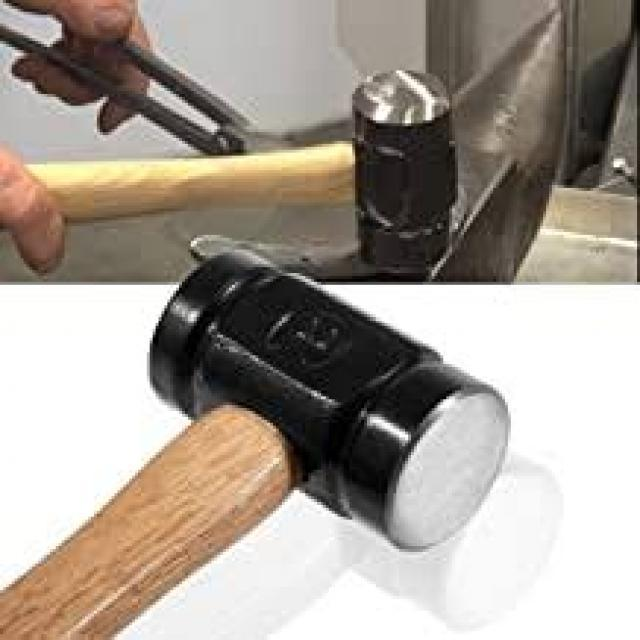hammer: (0, 246, 522, 640), (0, 59, 461, 279)
